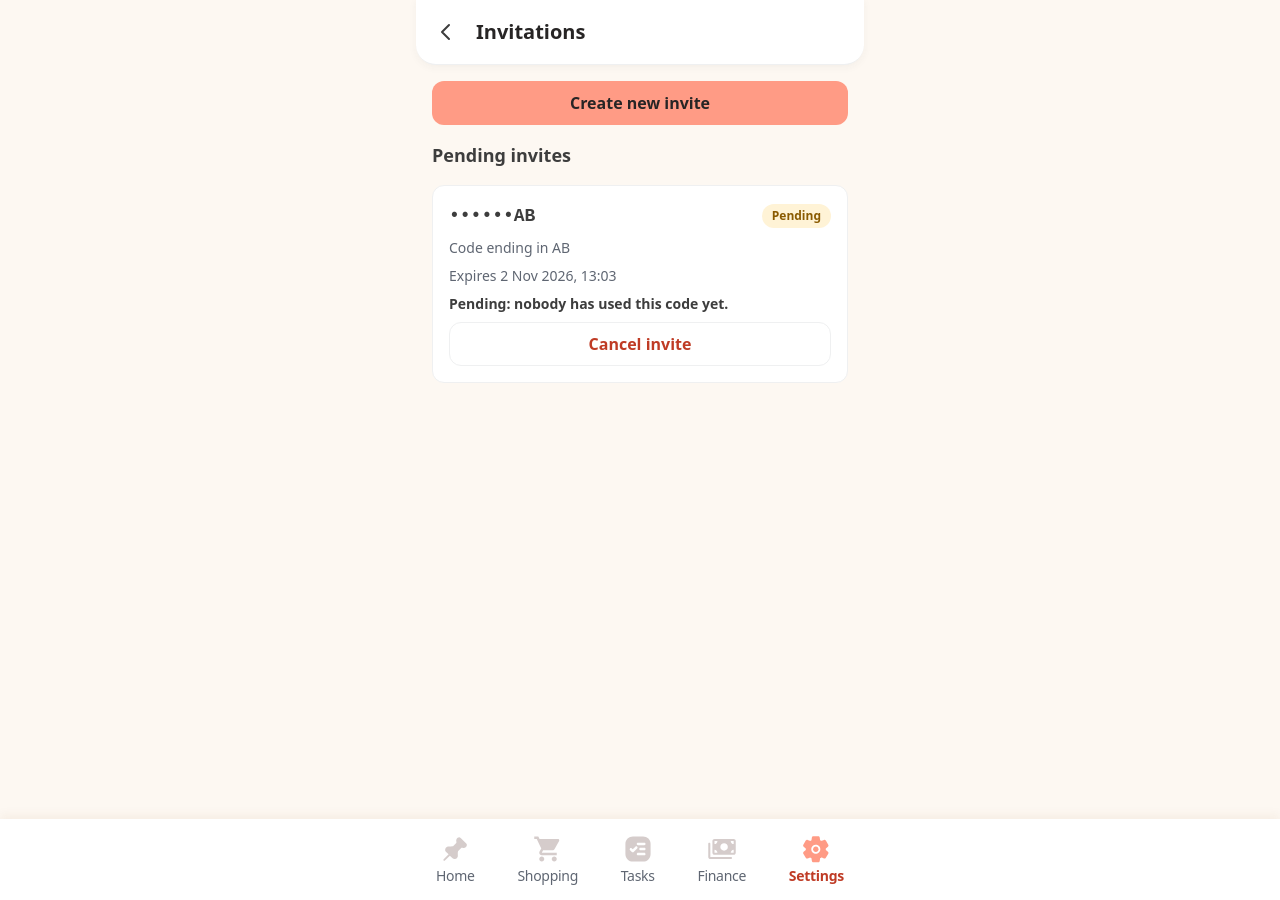
Test: invitations › a failed revoke is reported
The width and height of the screenshot is (1280, 900).
Click the button "Cancel invite".
click(640, 344)  # box [449,322,831,366]
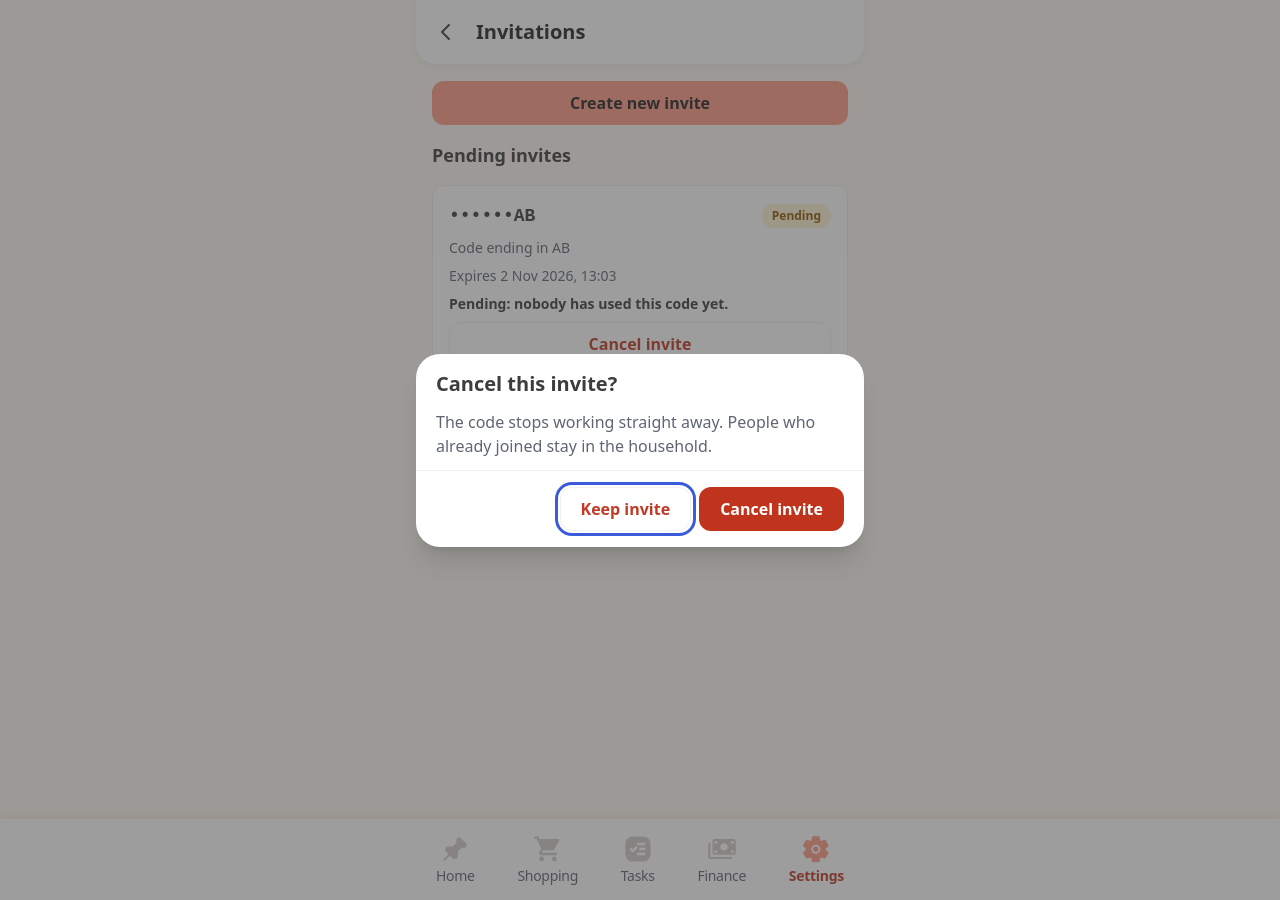
Click the button "Cancel invite".
click(772, 508)  # box [699,486,844,530]
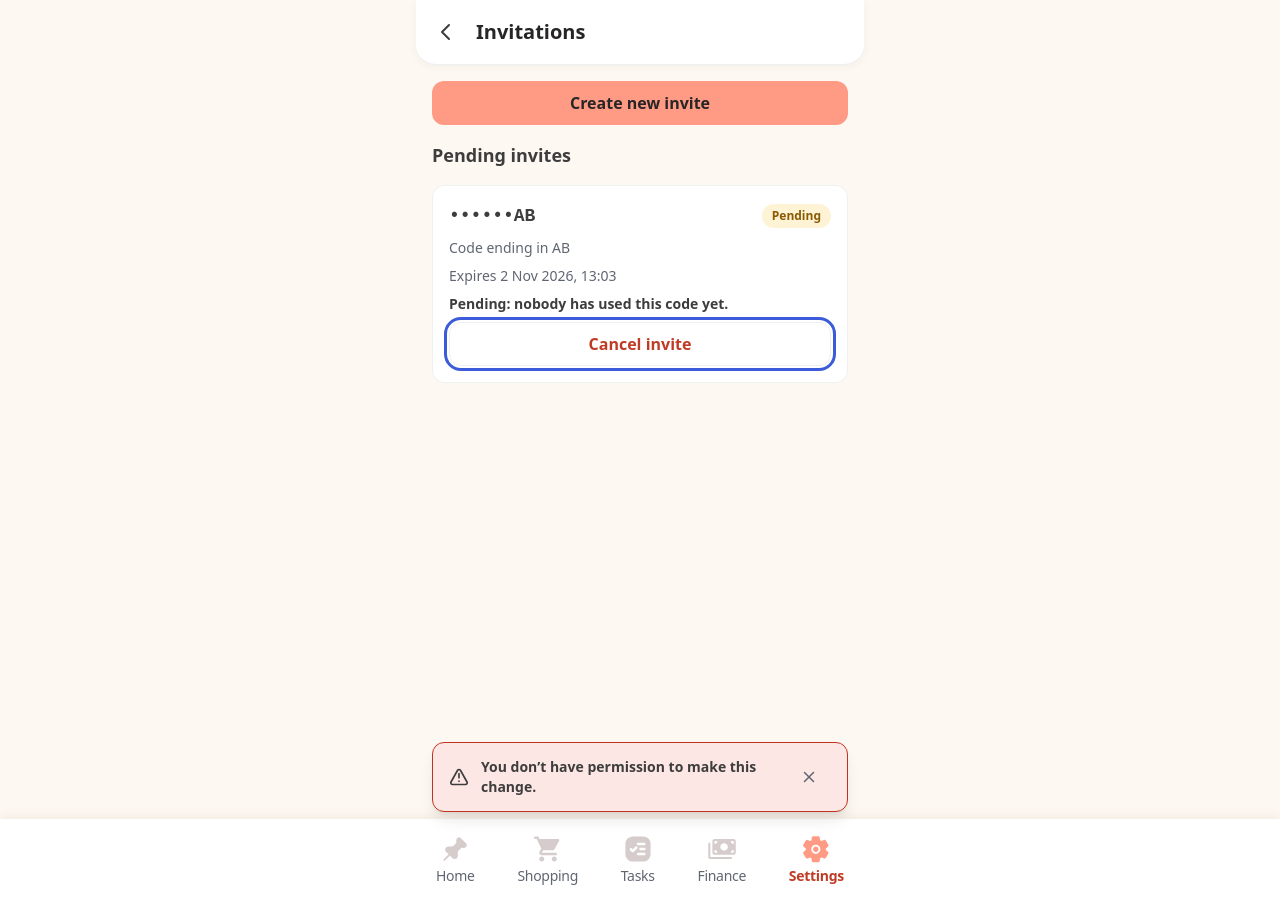
Expected: the message reads "You don’t have permission to make this change.", [481,757,756,796]
